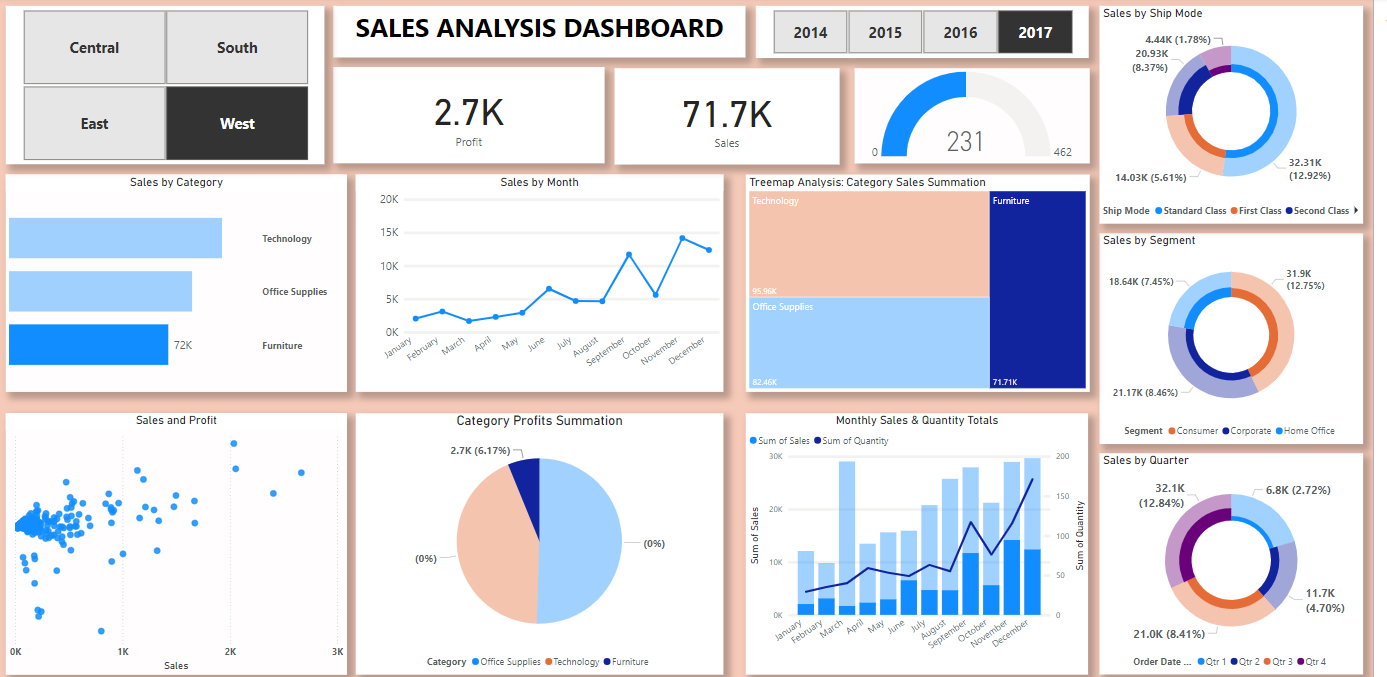

This screenshot's page, from the dashboard's own definition file:
{"tool":"powerbi","page":{"name":"Sales Analysis Dashboard","canvas":[2000,1000],"ordinal":0},"visuals":[{"type":"barChart","title":"Sales by Category","fields":{"Y":["Sum(sample_-_superstore xls - Orders.Sales)"],"Category":["sample_-_superstore xls - Orders.Category"]},"box":[12.7,258,496,316.1],"z":0},{"type":"lineChart","title":"Sales by Month","fields":{"Y":["Sum(sample_-_superstore xls - Orders.Sales)"],"Category":["sample_-_superstore xls - Orders.Order Date.Variation.Date Hierarchy.Month"]},"box":[521.4,258,534.2,316.1],"z":1000},{"type":"scatterChart","fields":{"X":["sample_-_superstore xls - Orders.Sales"],"Y":["sample_-_superstore xls - Orders.Profit"]},"box":[12.7,605,496,379.7],"z":2000},{"type":"pieChart","title":"Sales by Segment","fields":{"Category":["sample_-_superstore xls - Orders.Segment"],"Y":["Sum(sample_-_superstore xls - Orders.Sales)"]},"box":[1602.5,343.3,383.4,306.4],"z":3000},{"type":"slicer","fields":{"Values":["sample_-_superstore xls - Orders.Order Date.Variation.Date Hierarchy.Year"]},"box":[1103.6,12.4,483.8,75.7],"z":5000},{"type":"lineClusteredColumnComboChart","title":"Monthly Sales & Quantity Totals","fields":{"Category":["sample_-_superstore xls - Orders.Order Date.Variation.Date Hierarchy.Month"],"Y":["Sum(sample_-_superstore xls - Orders.Sales)"],"Y2":["Sum(sample_-_superstore xls - Orders.Quantity)"]},"box":[1088.3,605,497.8,379.7],"z":6000},{"type":"textbox","box":[488.3,12.5,599.4,75.1],"z":8000},{"type":"card","fields":{"Values":["Sum(sample_-_superstore xls - Orders.Profit)"]},"box":[488.7,101.7,394.3,139.9],"z":9000},{"type":"card","fields":{"Values":["Sum(sample_-_superstore xls - Orders.Sales)"]},"box":[897.5,103.6,327,139.9],"z":10000},{"type":"gauge","fields":{"Y":["CountNonNull(sample_-_superstore xls - Orders.Row ID)"]},"box":[1246.4,103.6,341.6,138.1],"z":12000},{"type":"slicer","fields":{"Values":["sample_-_superstore xls - Orders.Region"]},"box":[12.7,12.7,463.3,230.7],"z":13000},{"type":"treemap","title":"Treemap Analysis: Category Sales Summation","fields":{"Values":["Sum(sample_-_superstore xls - Orders.Sales)"],"Group":["sample_-_superstore xls - Orders.Category"]},"box":[1088.3,258,499.6,316.1],"z":15000},{"type":"pieChart","title":"Category Profits Summation","fields":{"Category":["sample_-_superstore xls - Orders.Category"],"Y":["Sum(sample_-_superstore xls - Orders.Profit)"]},"box":[521.4,605,534.2,379.7],"z":16000},{"type":"donutChart","title":"Sales by Ship Mode","fields":{"Y":["Sum(sample_-_superstore xls - Orders.Sales)"],"Category":["sample_-_superstore xls - Orders.Ship Mode"]},"box":[1602.5,12.7,383.4,317],"z":17000},{"type":"donutChart","title":"Sales by Quarter","fields":{"Y":["Sum(sample_-_superstore xls - Orders.Sales)"],"Category":["sample_-_superstore xls - Orders.Order Date.Variation.Date Hierarchy.Quarter"]},"box":[1602.5,663.2,383.4,321.6],"z":18000}]}

Visuals, with their boxes in screenshot pixels (x1, y1, x2, y2), scaled from the page's 2000x1000 canvas onto the 1387x677 screenshot:
"Sales by Category" barChart: [9,175,353,389]
"Sales by Month" lineChart: [362,175,732,389]
scatterChart - sample_-_superstore xls - Orders.Sales x sample_-_superstore xls - Orders.Profit: [9,410,353,667]
"Sales by Segment" pieChart: [1111,232,1377,440]
slicer - sample_-_superstore xls - Orders.Order Date.Variation.Date Hierarchy.Year: [765,8,1101,60]
"Monthly Sales & Quantity Totals" lineClusteredColumnComboChart: [755,410,1100,667]
textbox: [339,8,754,59]
card - Sum(sample_-_superstore xls - Orders.Profit): [339,69,612,164]
card - Sum(sample_-_superstore xls - Orders.Sales): [622,70,849,165]
gauge - CountNonNull(sample_-_superstore xls - Orders.Row ID): [864,70,1101,164]
slicer - sample_-_superstore xls - Orders.Region: [9,9,330,165]
"Treemap Analysis: Category Sales Summation" treemap: [755,175,1101,389]
"Category Profits Summation" pieChart: [362,410,732,667]
"Sales by Ship Mode" donutChart: [1111,9,1377,223]
"Sales by Quarter" donutChart: [1111,449,1377,667]
